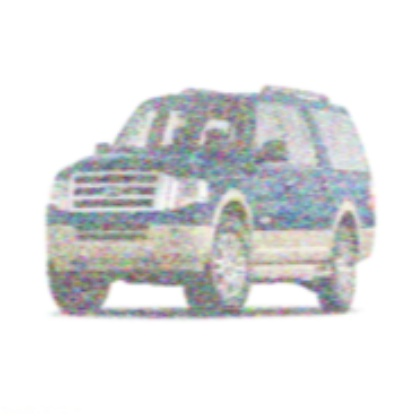Vehicle: (45, 86, 378, 319)
